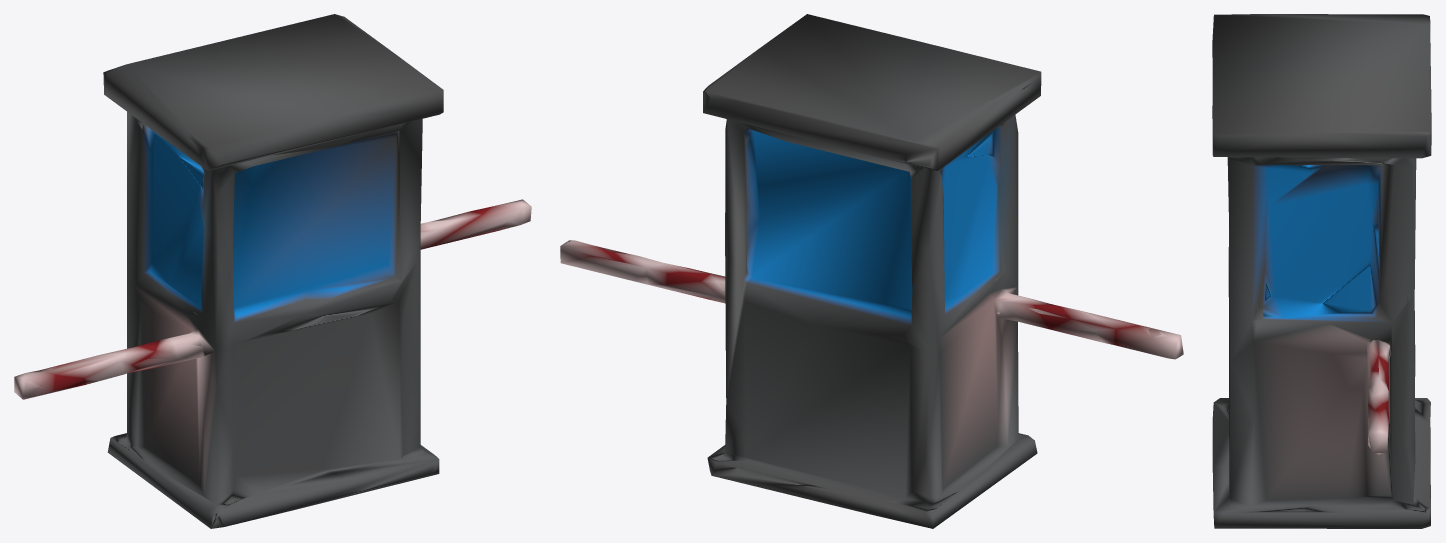
Rendered from gen3d-toll-booth-lod1.glb.
The picture shows the model from 3 angles, left to right: view 1: azimuth 30°, elevation 25°; view 2: azimuth 150°, elevation 25°; view 3: azimuth 270°, elevation 25°; orthographic projection. The views are drawn at different scales.
Parts seen in each view (by area): view 1: part_0; view 2: part_0; view 3: part_0.
Boxes of the visible parts, x1,y1,x2,y2 form: part_0: [14, 14, 531, 528]; part_0: [560, 14, 1183, 528]; part_0: [1212, 14, 1431, 528].
Size of the model in its own units: 1.53 by 0.9992 by 0.4974.
